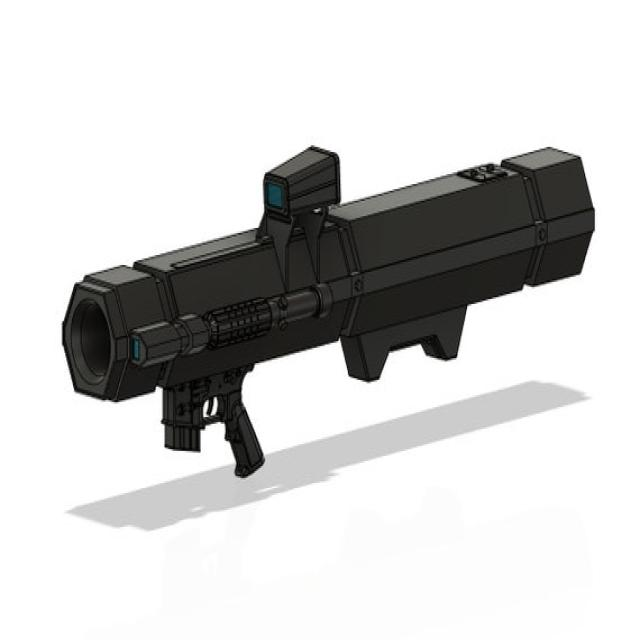bazooka: (41, 113, 622, 532)
